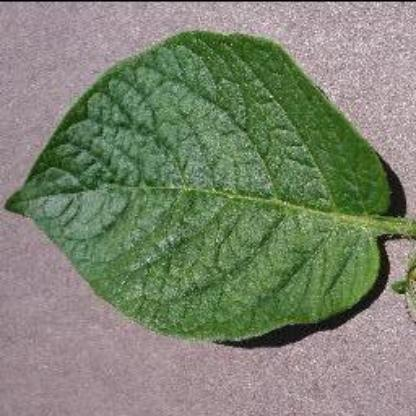Healthy-plant: (7, 28, 415, 348)
